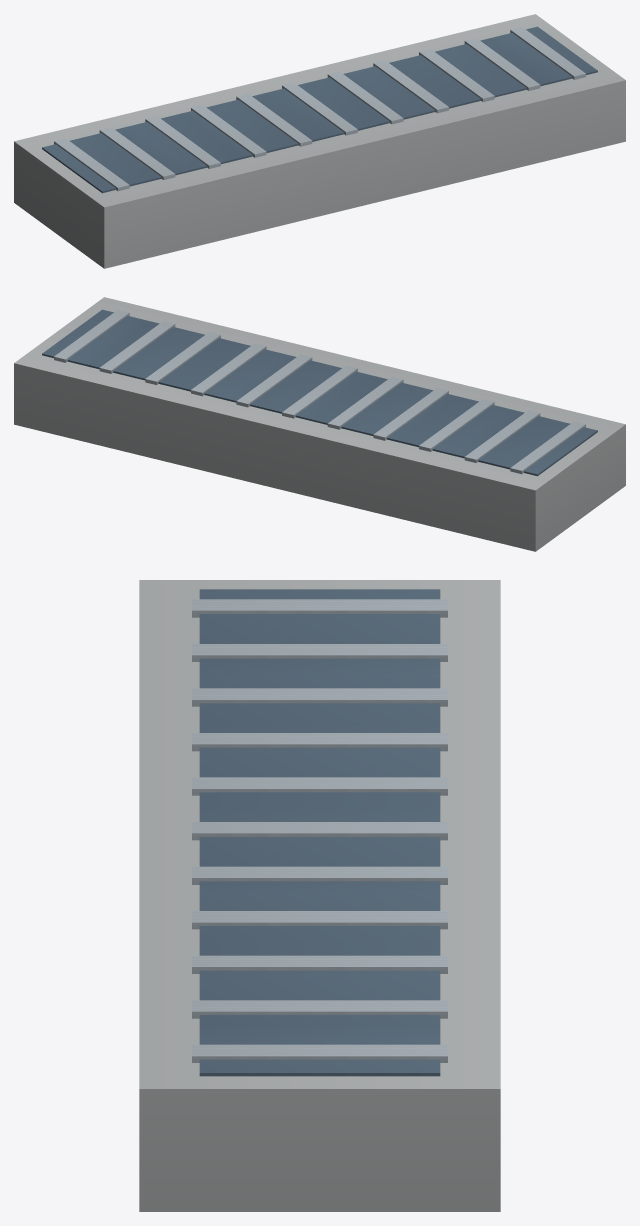
Rendered from drainage_module.glb.
3 renders of one model, top to bottom at view 1: azimuth 30°, elevation 25°; view 2: azimuth 150°, elevation 25°; view 3: azimuth 270°, elevation 25°, orthographic. The views are drawn at different scales.
Visible parts, largest first — view 1: drainage_module; view 2: drainage_module; view 3: drainage_module.
Boxes of the visible parts, bbox=[...] form: drainage_module: bbox=[14, 14, 625, 268]; drainage_module: bbox=[14, 297, 625, 551]; drainage_module: bbox=[139, 580, 500, 1211].
Bounding box in the file's own units: 8 × 0.95 × 2.4.
1 material, 1 textured.
